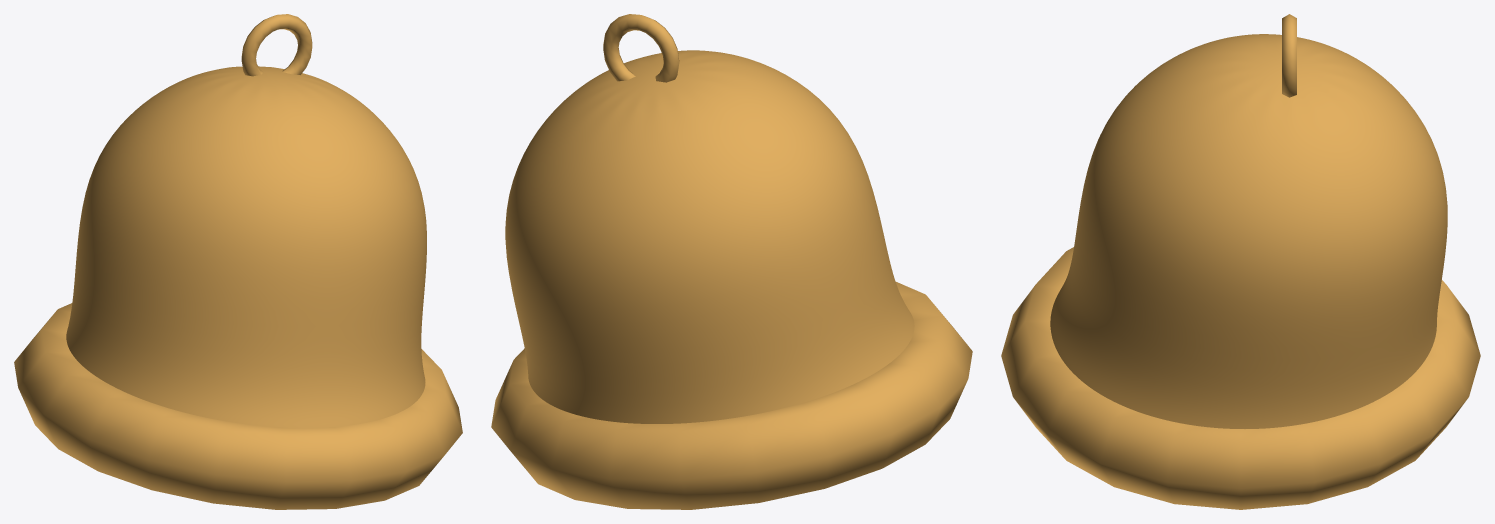
File: bell.glb
The picture shows the model from 3 angles, left to right: view 1: azimuth 30°, elevation 25°; view 2: azimuth 150°, elevation 25°; view 3: azimuth 270°, elevation 25°; orthographic projection. The views are drawn at different scales.
Visible parts, largest first — view 1: Icosphere; view 2: Icosphere; view 3: Icosphere.
Boxes of the visible parts, x1,y1,x2,y2 form: Icosphere: (14,14,462,509); Icosphere: (491,14,972,509); Icosphere: (1001,14,1480,509).
Bounding box in the file's own units: 1.8 × 2 × 1.82.
